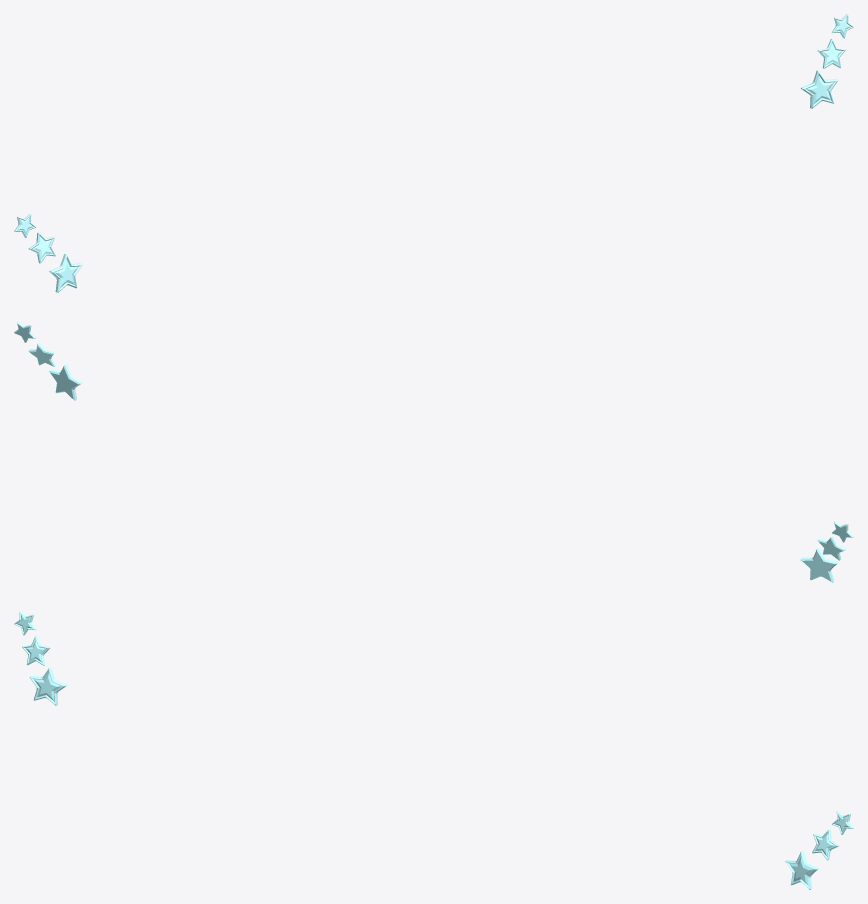
File: jewelry_star_tripple_silver.glb
3 renders of one model, top to bottom at view 1: azimuth 30°, elevation 25°; view 2: azimuth 150°, elevation 25°; view 3: azimuth 330°, elevation 25°, orthographic.
Parts seen in each view (by area): view 1: jewlery_star_tripple_gold; view 2: jewlery_star_tripple_gold; view 3: jewlery_star_tripple_gold.
Part boxes in pixels (x1=…): jewlery_star_tripple_gold: x1=14, y1=14, x2=853, y2=292; jewlery_star_tripple_gold: x1=14, y1=321, x2=853, y2=582; jewlery_star_tripple_gold: x1=14, y1=611, x2=853, y2=889.
Bounding box in the file's own units: 0.3758 × 0.0322 × 0.0113.
